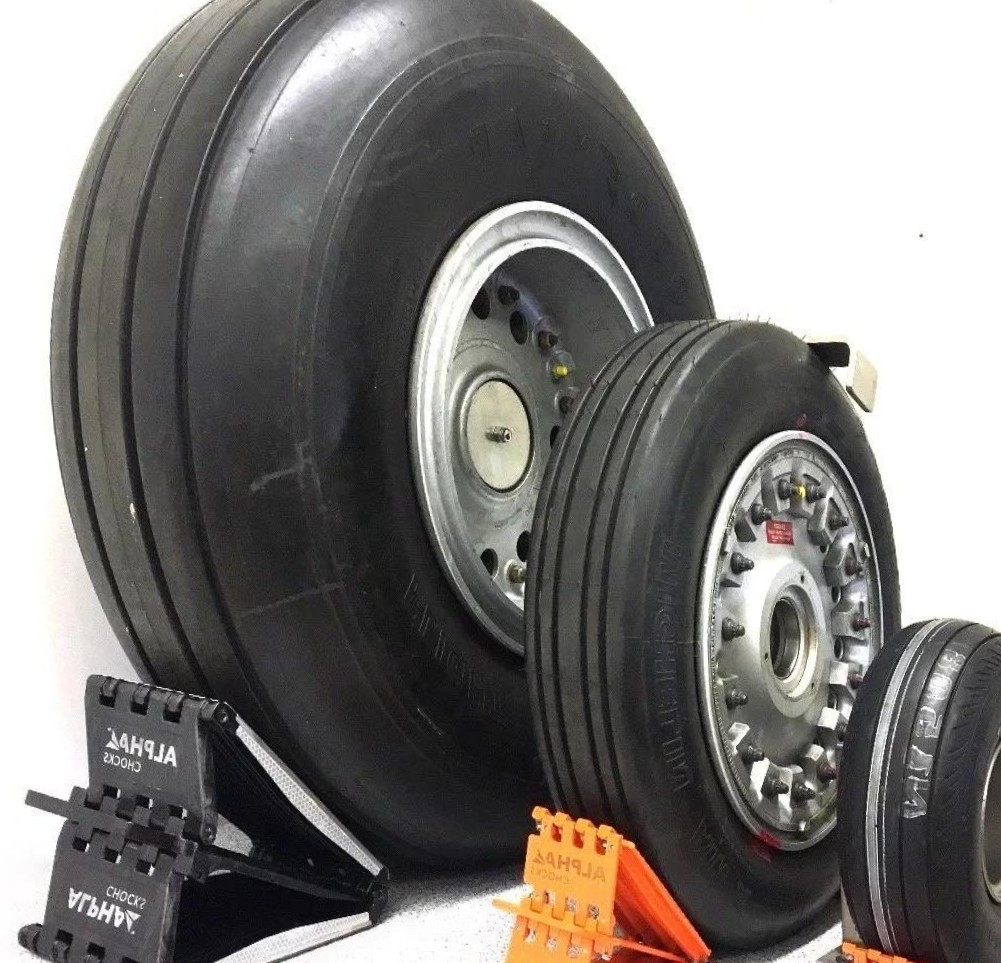chock: (0, 664, 407, 963), (478, 805, 726, 963)
wheel: (24, 0, 742, 894), (523, 310, 909, 936), (824, 614, 1001, 963)
